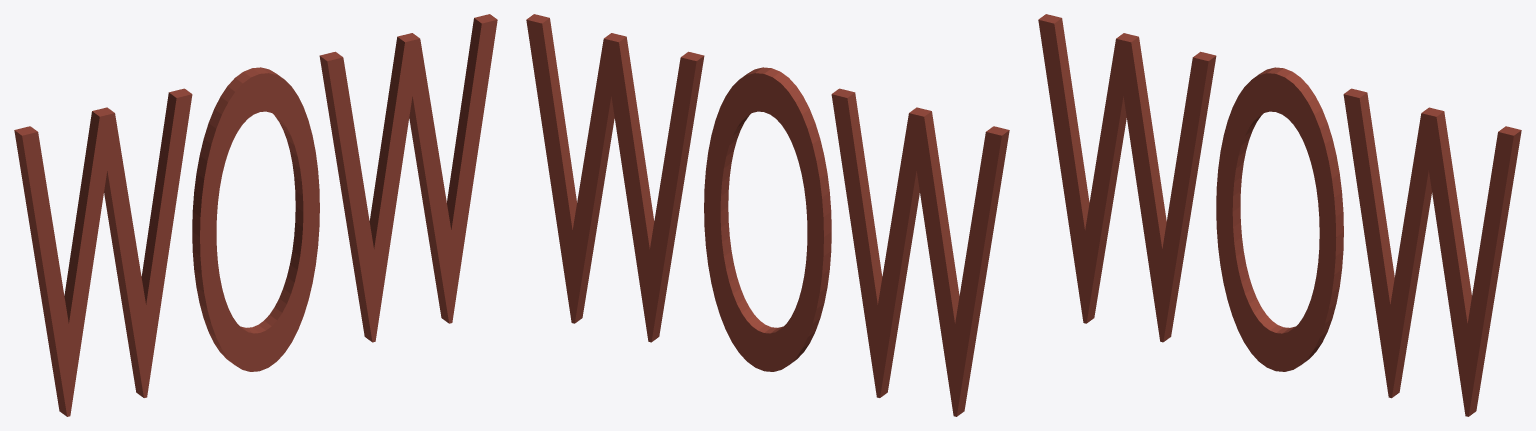
3 views of the same model, side by side, from view 1: azimuth 30°, elevation 25°; view 2: azimuth 150°, elevation 25°; view 3: azimuth 330°, elevation 25° (orthographic).
Parts seen in each view (by area): view 1: Text; view 2: Text; view 3: Text.
Boxes of the visible parts, x1,y1,x2,y2 form: Text: [14, 14, 497, 416]; Text: [526, 14, 1009, 416]; Text: [1038, 14, 1521, 416].
Size of the model in its own units: 7.04 by 4.21 by 0.2.
